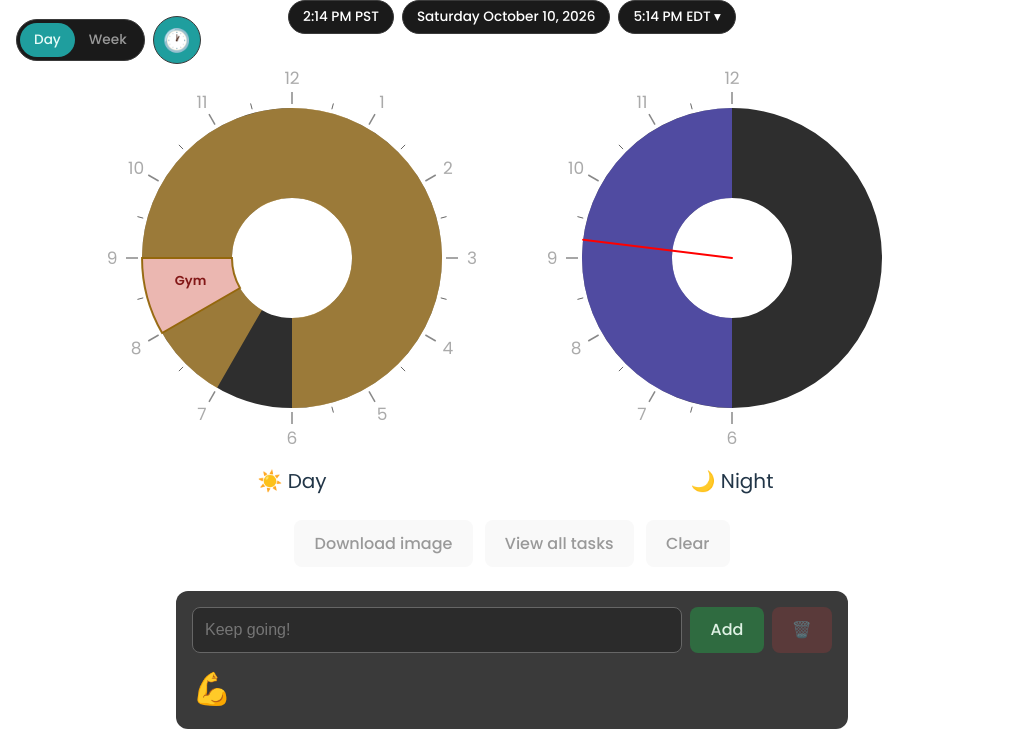
it: DayPlanner › the Clear button does nothing if the confirmation is cancelled
What coordinates should you click on to do the following:
click the button "Clear"
I would click on:
 (688, 544)
Its box is [646,520,730,567].
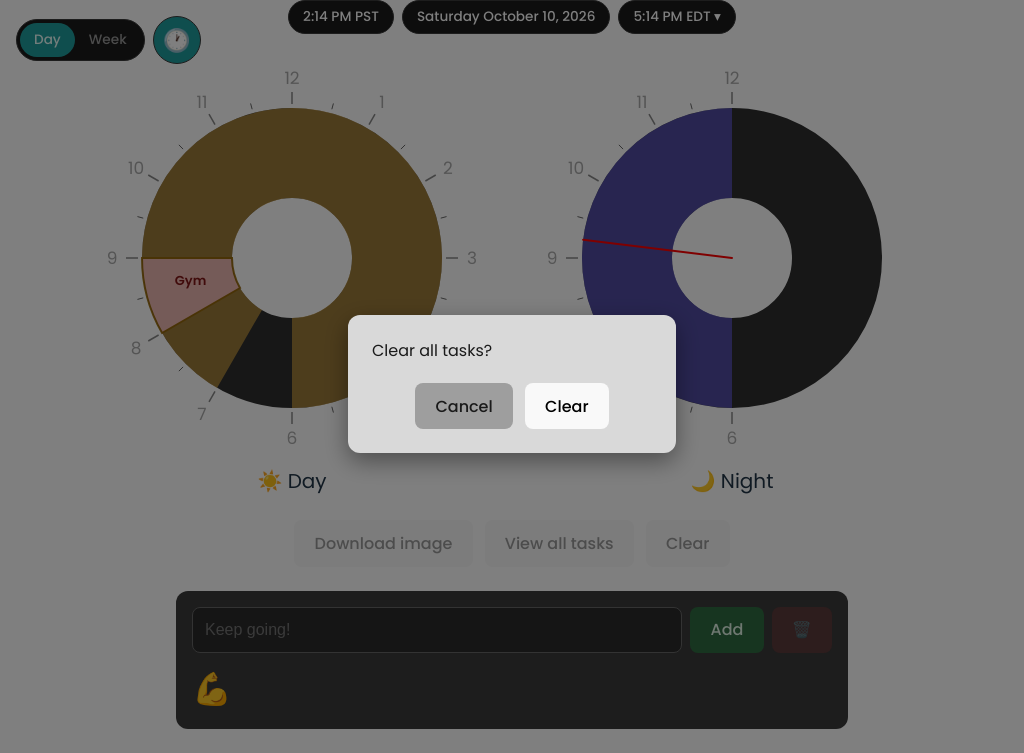
What coordinates should you click on to do the following:
click the button "Cancel"
I would click on:
 (464, 406)
Its box is [415,383,513,429].
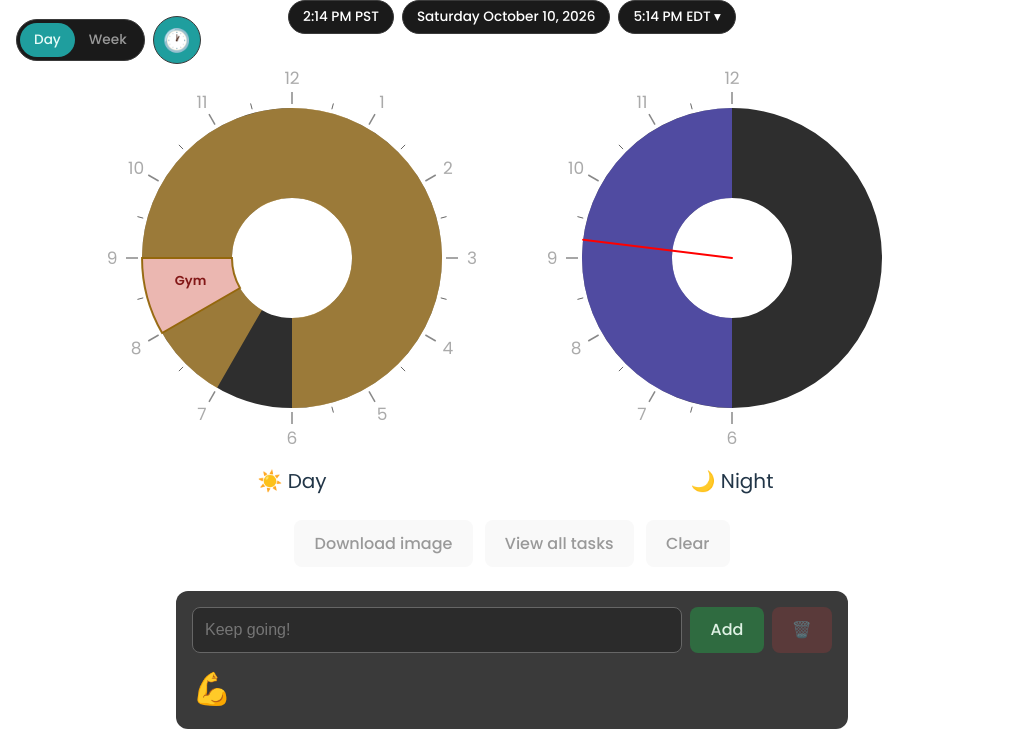
Expected: the button "Gym" is shown, [142,258,240,333]
Expected: the text "Clear all tasks?" is gone
